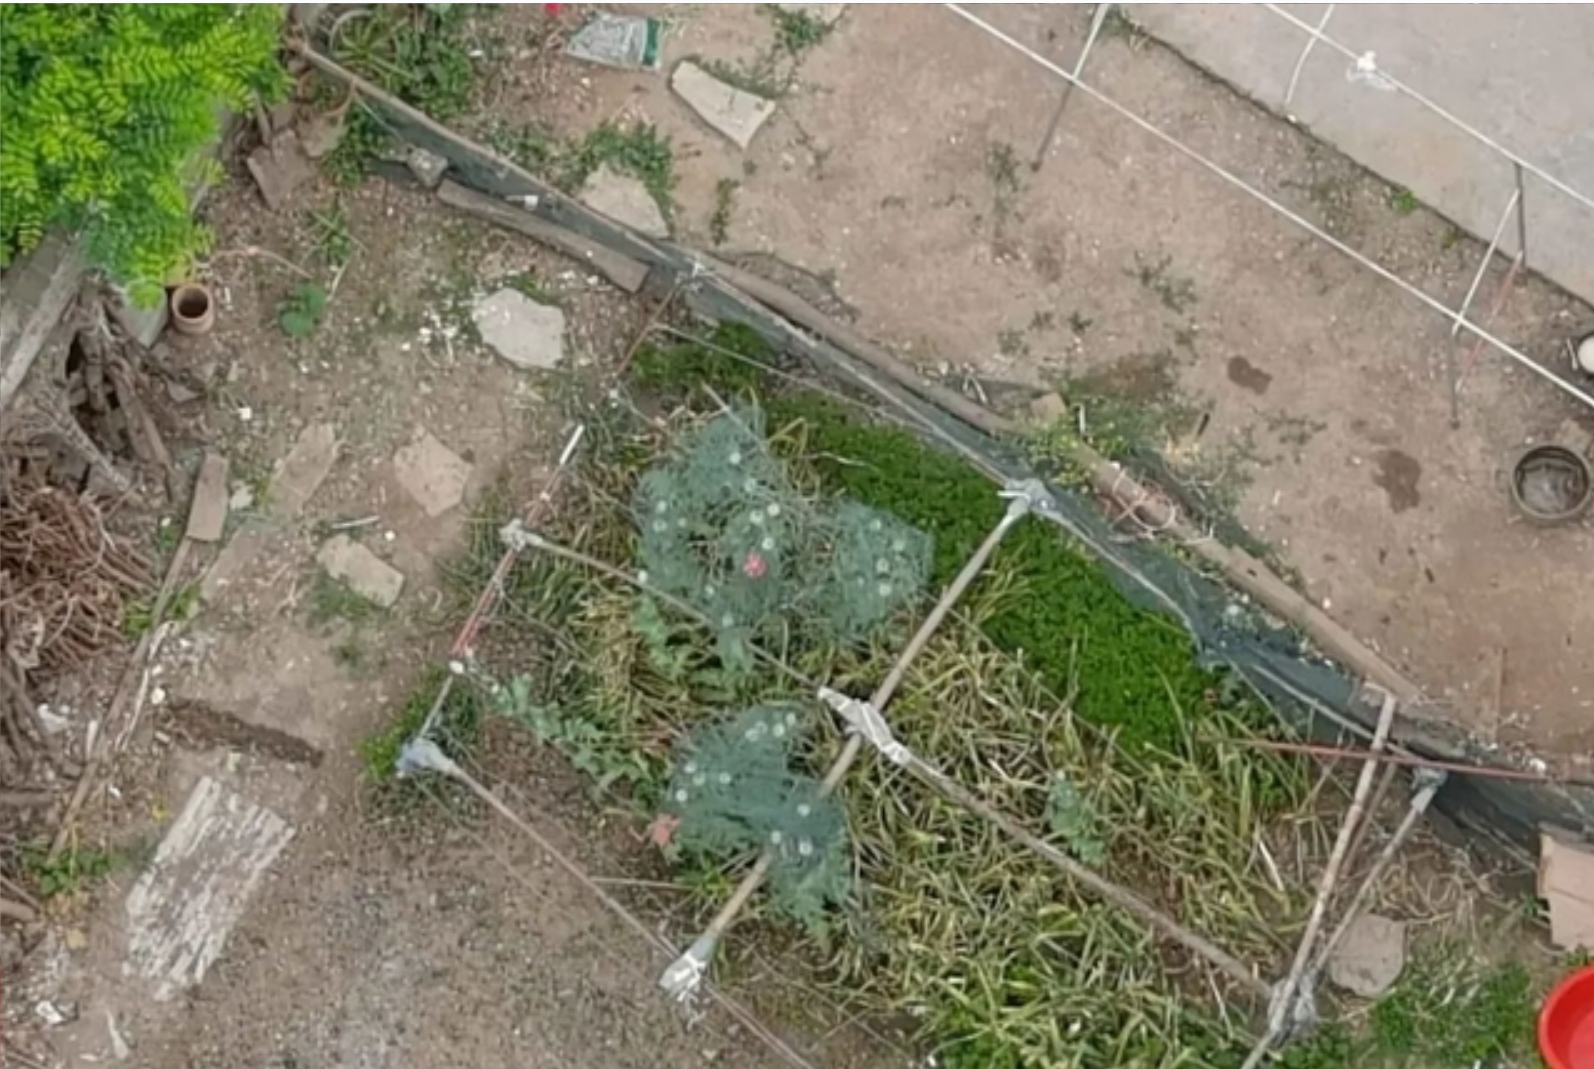Poppy: (612, 394, 937, 644), (642, 691, 851, 892)
